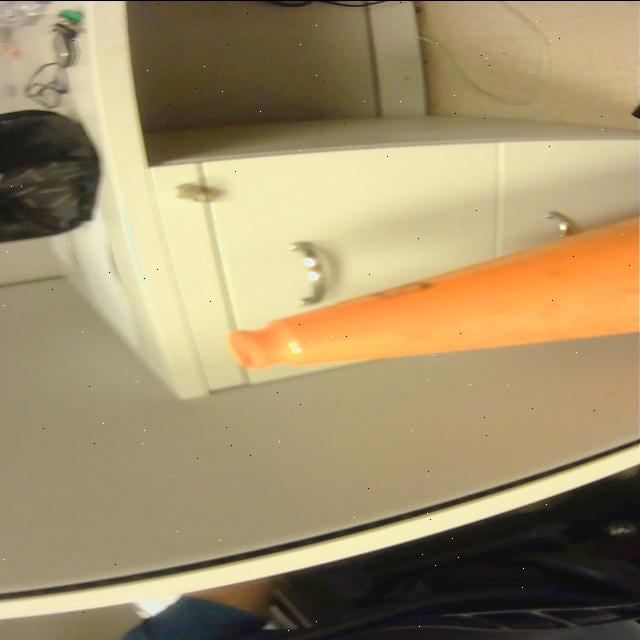traffic cone: (222, 204, 640, 376)
